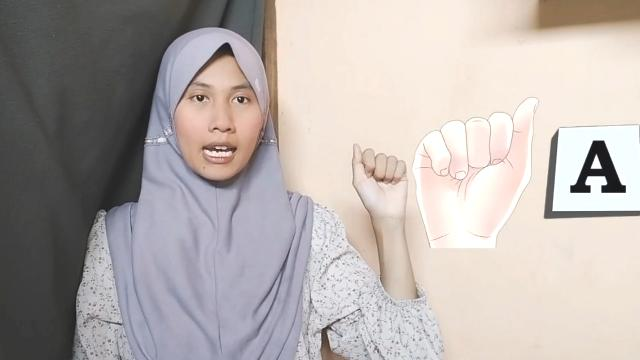A: (349, 140, 409, 246)
